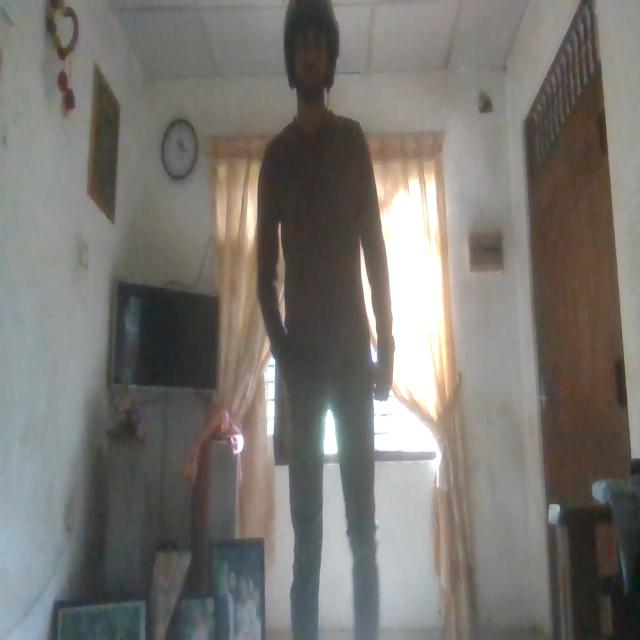Helmet_Wearer: (278, 0, 346, 123)
Person: (259, 0, 403, 632)
